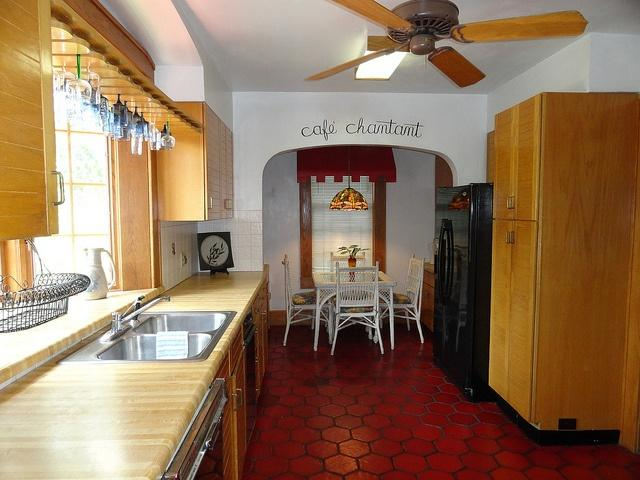Lemari: (487, 89, 639, 430), (155, 98, 234, 223)
